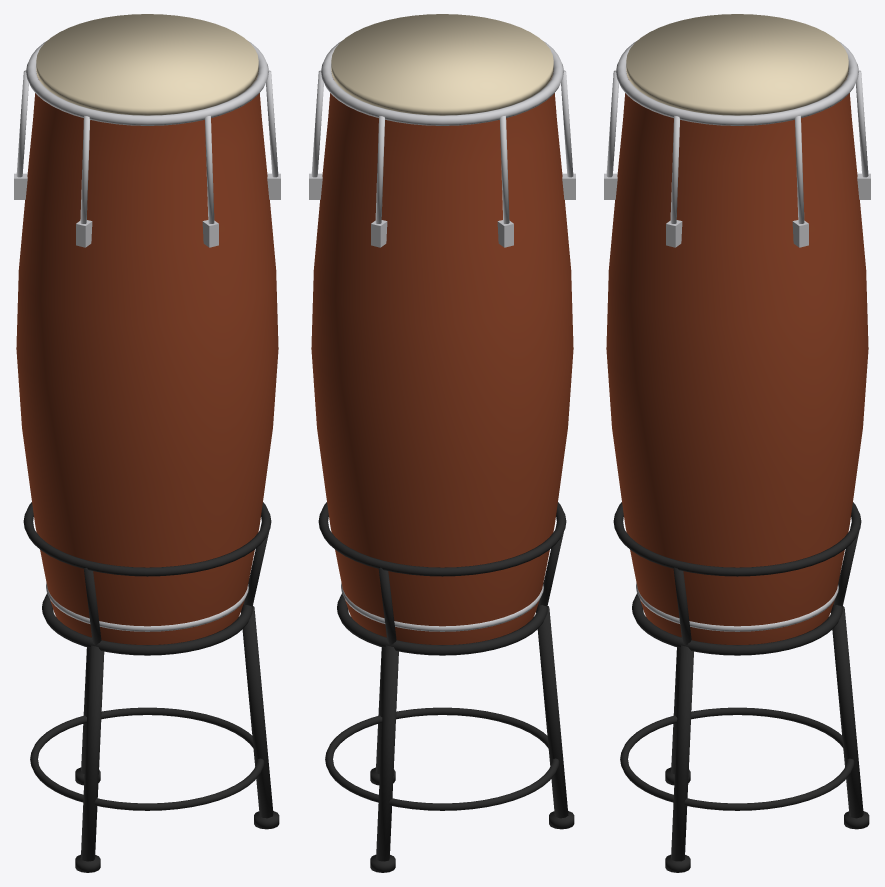
The model's file is conga.glb.
3 views of the same model, side by side, from view 1: azimuth 30°, elevation 25°; view 2: azimuth 150°, elevation 25°; view 3: azimuth 270°, elevation 25° (orthographic).
Visible parts, largest first — view 1: Conga; view 2: Conga; view 3: Conga.
Part boxes in pixels (bbox=[...]): Conga: bbox=[14, 14, 280, 872]; Conga: bbox=[309, 14, 575, 872]; Conga: bbox=[604, 14, 870, 872].
Bounding box in the file's own units: 0.33 × 1.06 × 0.336.
